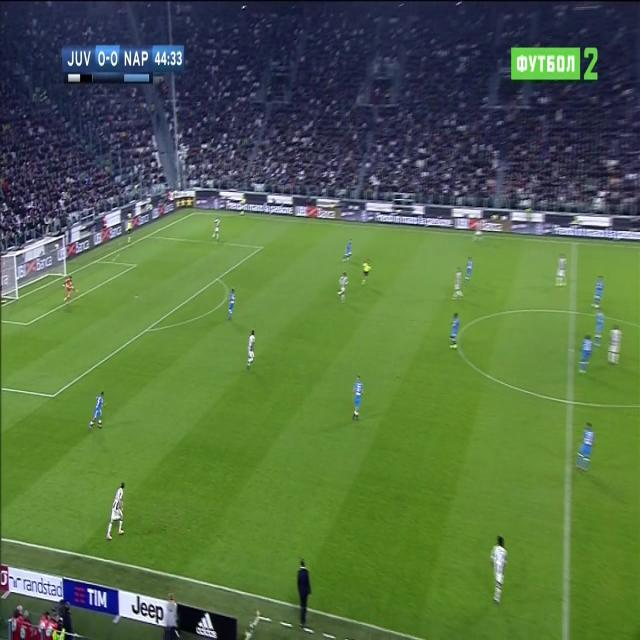Goalkeeper: (60, 272, 78, 307)
Player: (489, 533, 512, 602), (106, 479, 128, 542), (576, 420, 597, 475), (86, 389, 109, 434), (349, 372, 366, 428), (605, 320, 623, 368), (447, 310, 463, 354), (589, 273, 606, 314), (245, 328, 258, 374), (579, 332, 592, 376), (554, 252, 568, 289), (451, 264, 464, 302), (225, 284, 238, 320), (594, 311, 606, 349), (336, 268, 349, 302), (209, 214, 223, 244), (463, 253, 475, 288), (340, 238, 355, 262)
Referee: (360, 255, 372, 287)
